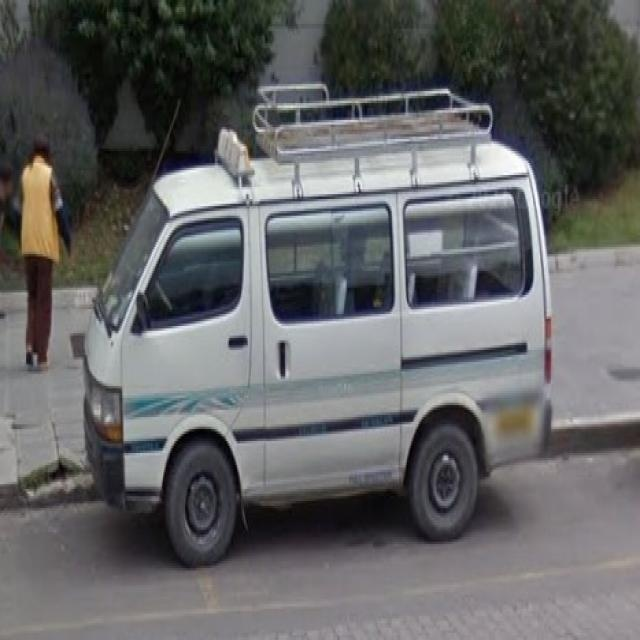Car: (80, 126, 548, 562)
